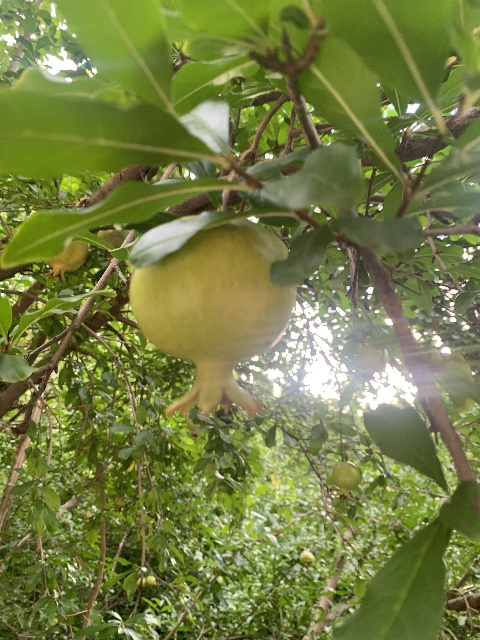mid-growth: (128, 217, 296, 422), (42, 240, 88, 284), (330, 462, 361, 500), (299, 551, 315, 567), (145, 575, 158, 588)
